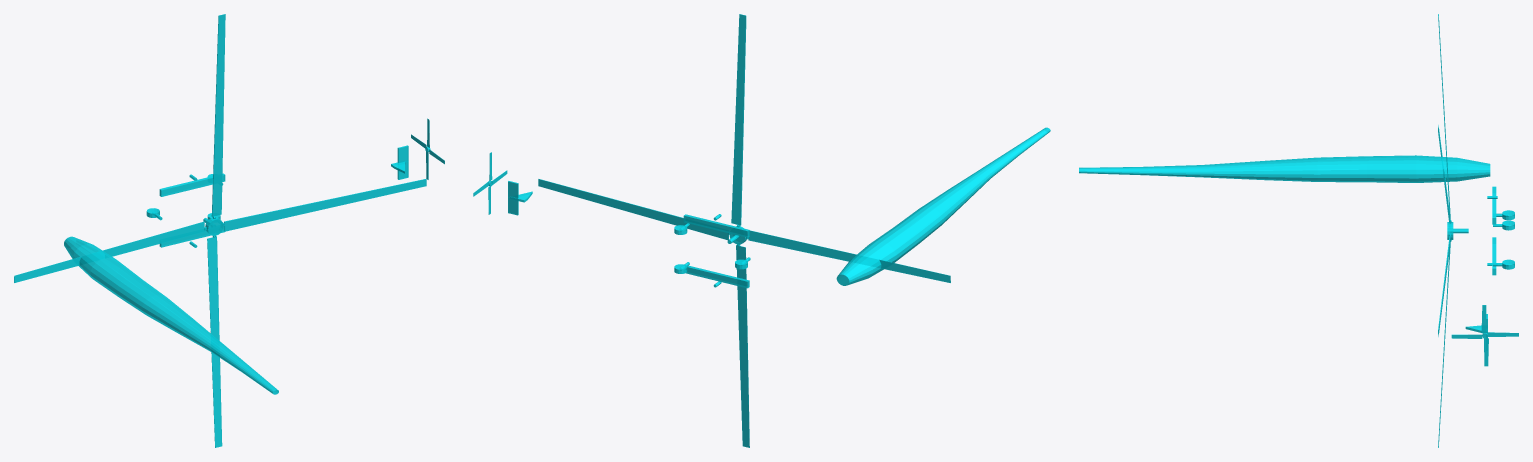
File: aw129_hologram.glb
The picture shows the model from 3 angles, left to right: view 1: azimuth 30°, elevation 25°; view 2: azimuth 150°, elevation 25°; view 3: azimuth 270°, elevation 25°; orthographic projection.
Visible parts, largest first — view 1: Helicopter; view 2: Helicopter; view 3: Helicopter.
Boxes of the visible parts, bbox=[...] form: Helicopter: bbox=[14, 14, 444, 447]; Helicopter: bbox=[473, 14, 1050, 447]; Helicopter: bbox=[1079, 14, 1518, 447].
Bounding box in the file's own units: 12.34 × 11.6 × 10.7.
